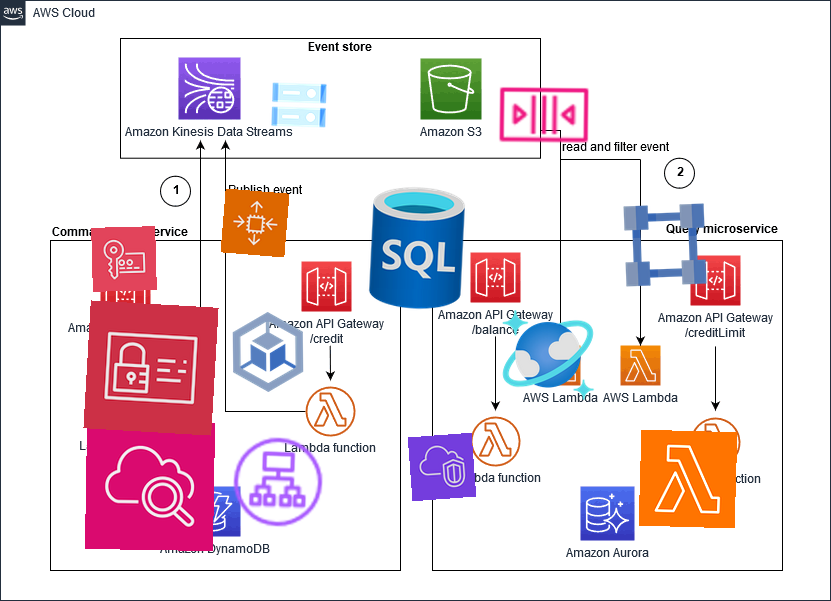aws_amazon_cloudwatch: (84, 420, 216, 552)
aws_amazon_ec2_auto_scaling: (220, 188, 290, 258)
aws_amazon_virtual_private_cloud: (407, 432, 477, 502)
aws_elastic_load_balancing_application_load_balancer: (228, 432, 328, 532)
aws_identity_and_access_management: (83, 300, 219, 436)
aws_key_management_service: (91, 226, 157, 292)
aws_lambda: (638, 429, 738, 529)
aws_simple_queue_service_queue: (495, 65, 593, 163)
azure_cosmos_db: (499, 306, 597, 404)
azure_sql_database: (349, 180, 485, 316)
gcp_cloud_storage: (265, 71, 333, 139)
gcp_google_kubernetes_engine: (219, 303, 317, 401)
gcp_virtual_private_cloud: (615, 195, 715, 295)
